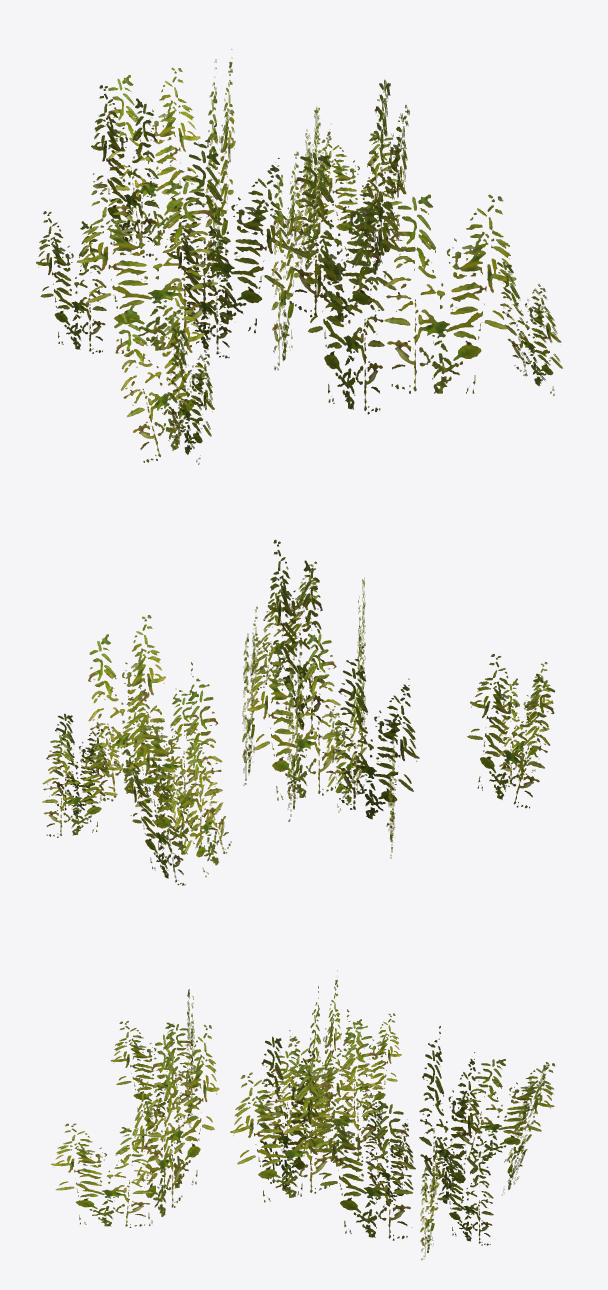
Rendered from DN_grass02a.FBX.
The picture shows the model from 3 angles, top to bottom: view 1: azimuth 30°, elevation 25°; view 2: azimuth 150°, elevation 25°; view 3: azimuth 270°, elevation 25°; orthographic projection. The views are drawn at different scales.
Visible parts, largest first — view 1: DN_grass02a; view 2: DN_grass02a; view 3: DN_grass02a.
Part boxes in pixels (left/top/right/bottom): DN_grass02a: left=36, top=49, right=562, bottom=464; DN_grass02a: left=42, top=539, right=554, bottom=885; DN_grass02a: left=51, top=970, right=555, bottom=1260.
Size of the model in its own units: 15.53 by 7.24 by 19.55.
1 material, 1 textured.
